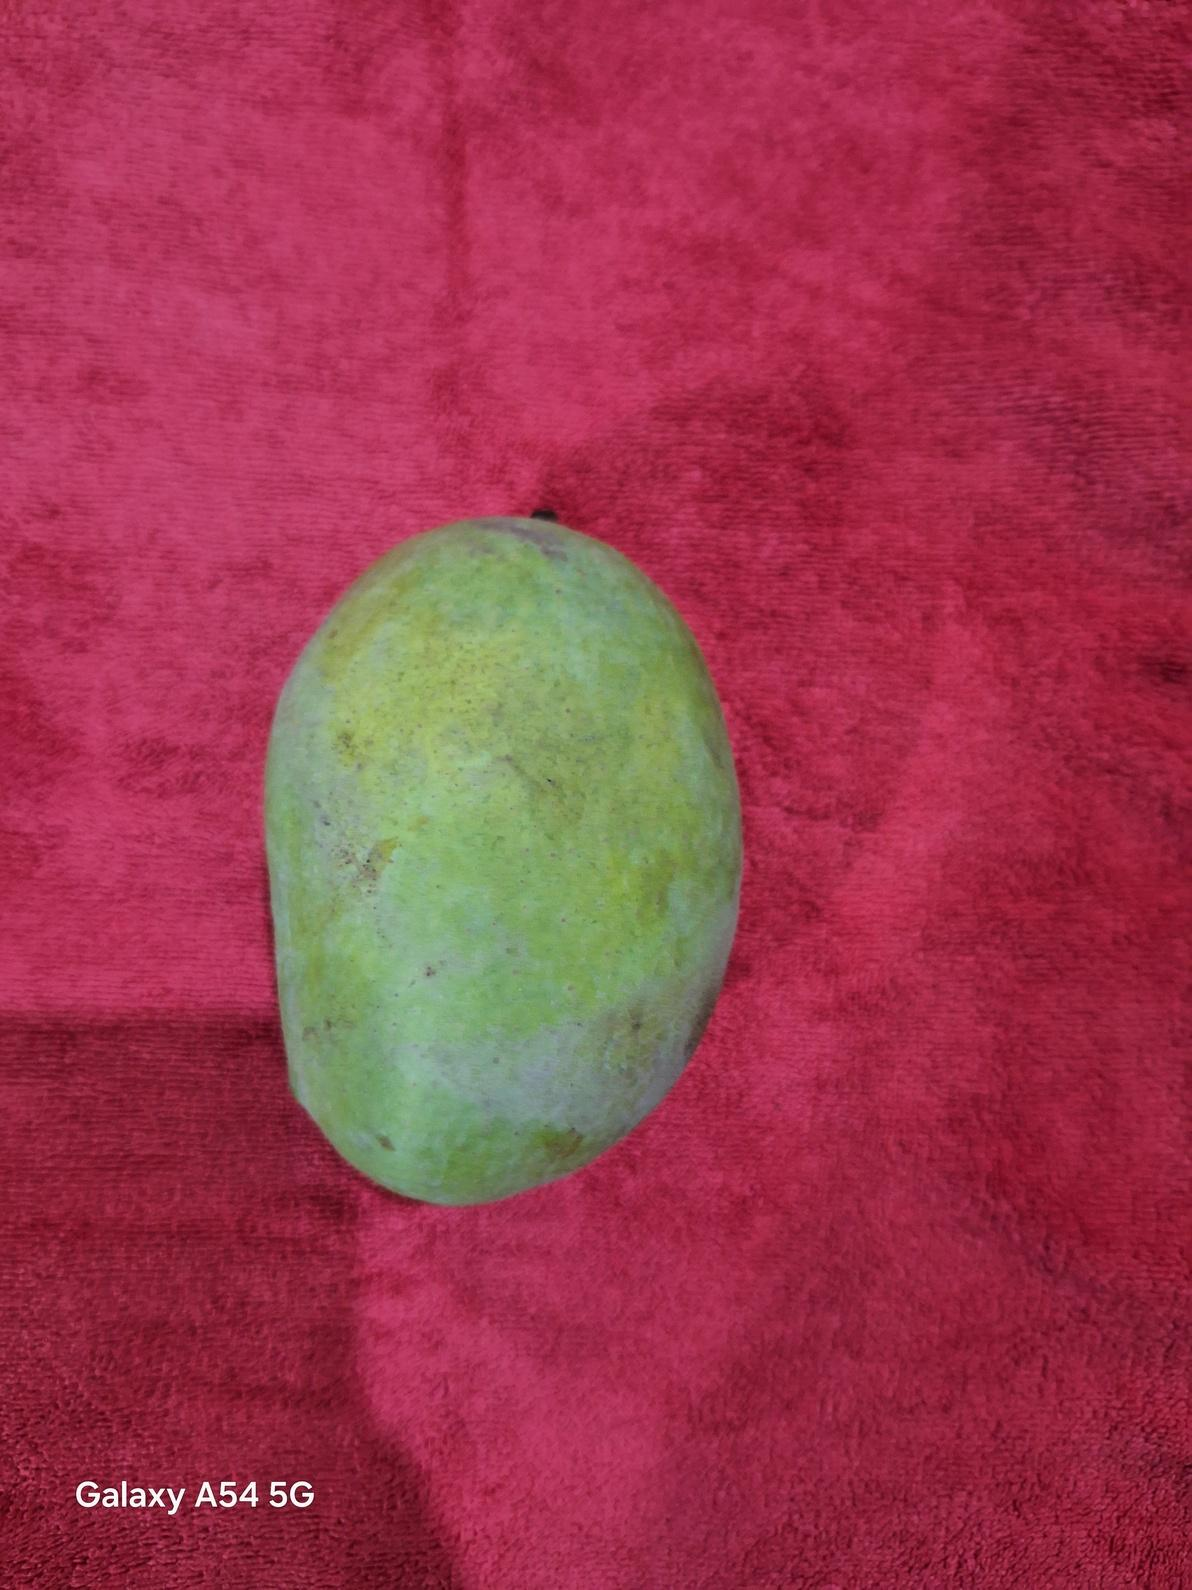mango: (260, 510, 745, 1207)
